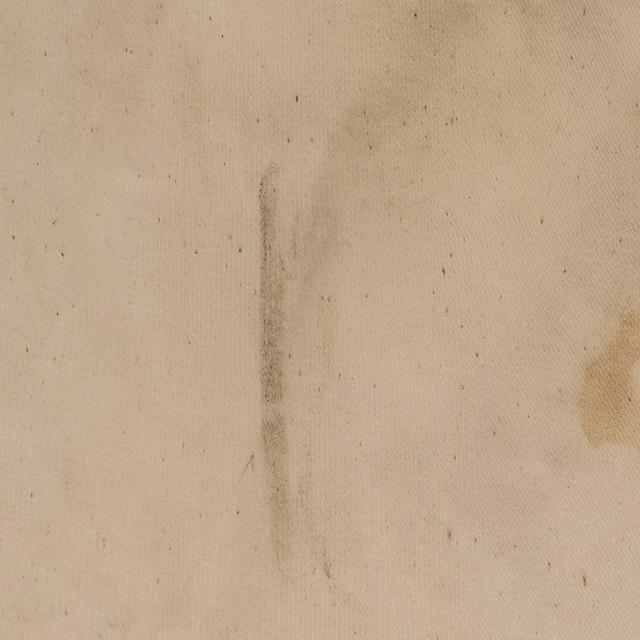taaaches: (224, 133, 330, 625), (569, 272, 640, 479)
